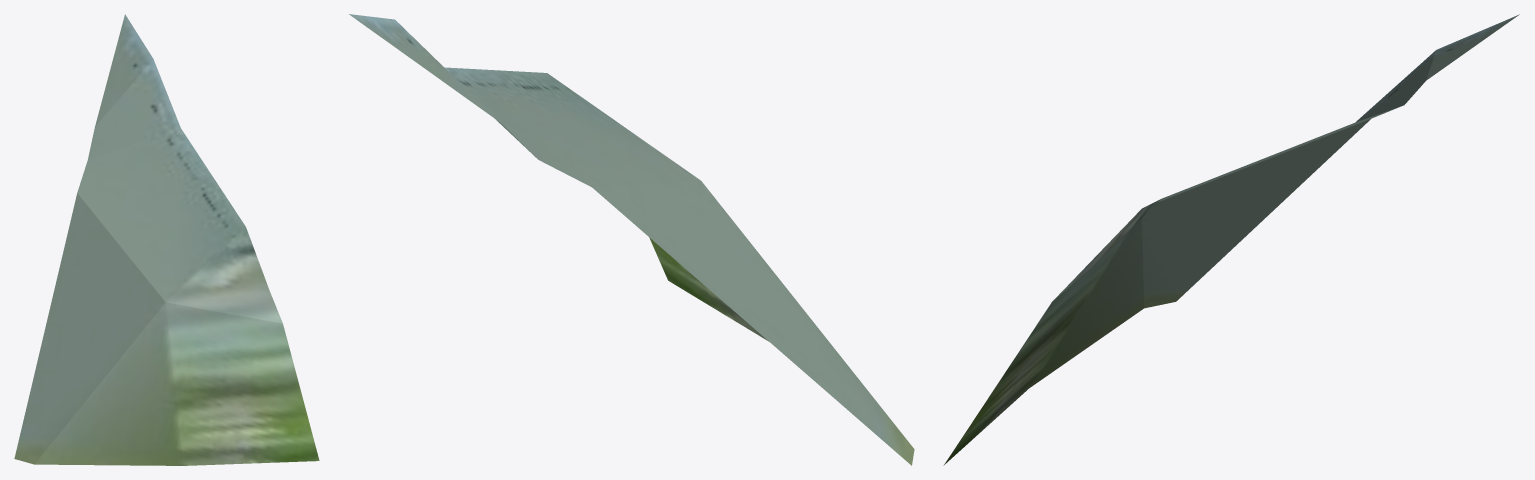
3 views of the same model, side by side, from view 1: azimuth 30°, elevation 25°; view 2: azimuth 150°, elevation 25°; view 3: azimuth 270°, elevation 25° (orthographic). The views are drawn at different scales.
Size of the model in its own units: 0.943 by 1.21 by 1.4.
1 material, 1 textured.
